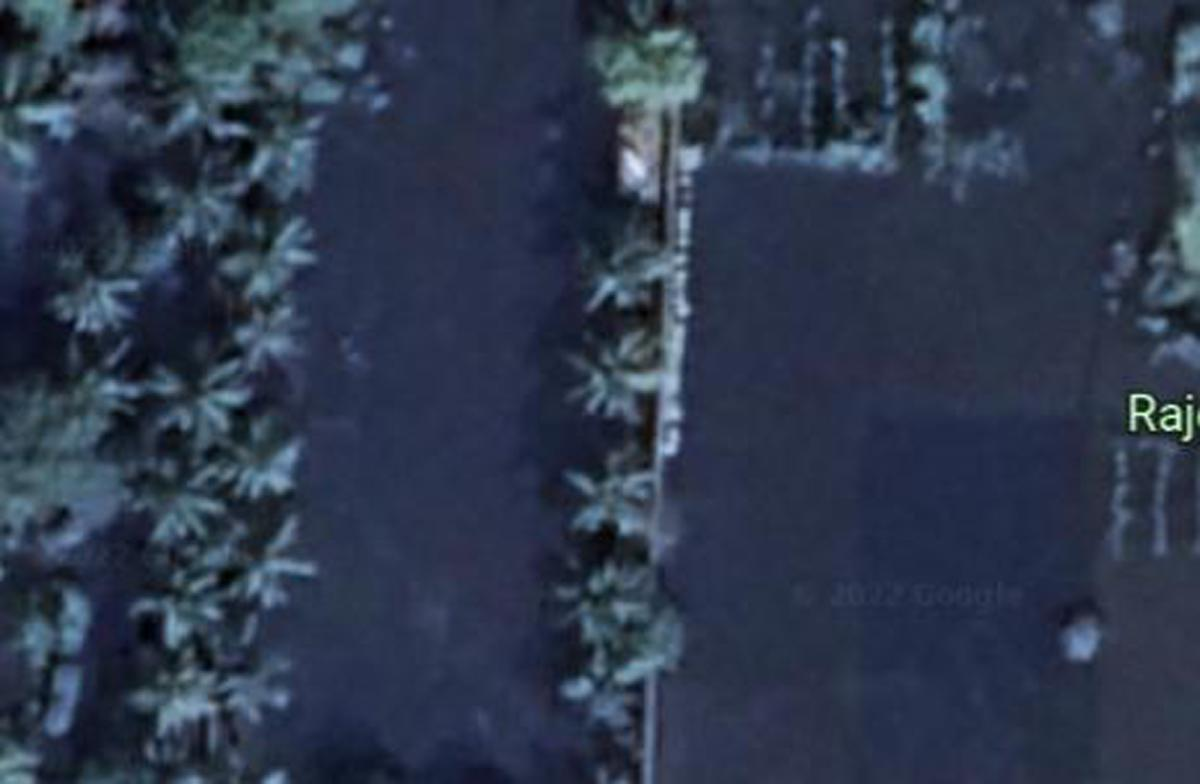coconut: (137, 550, 233, 649), (218, 514, 324, 599), (587, 205, 675, 306), (153, 358, 254, 446), (561, 454, 654, 545), (135, 454, 225, 547), (150, 150, 238, 244), (129, 656, 218, 747), (574, 334, 659, 425), (558, 646, 646, 729), (215, 415, 301, 498), (220, 215, 309, 293), (215, 646, 301, 726), (558, 558, 636, 638), (54, 262, 137, 334), (233, 298, 301, 373)
